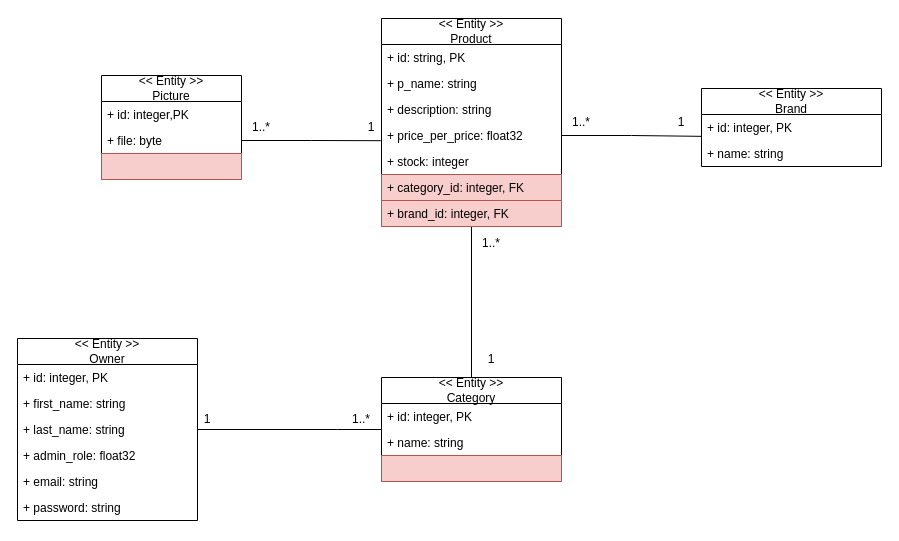
The diagram is 899 pixels wide and 541 high, and some of its shapes have lost their labels. Here are the shapes that lost their labels. From the top down, the centre of each, then its label:
At (x=171, y=166): "+ product_id: string,FK".
At (x=471, y=468): "+ owner_id: integer, FK".
